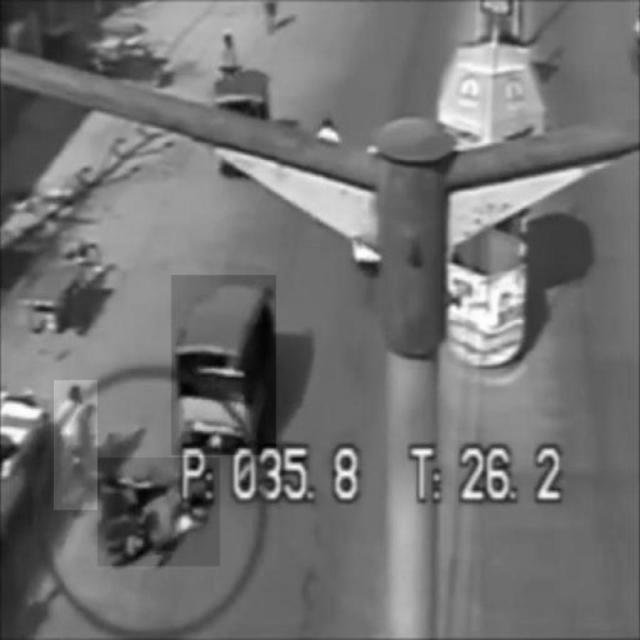vehicle: (172, 275, 276, 455), (98, 458, 220, 566), (54, 380, 98, 510)
